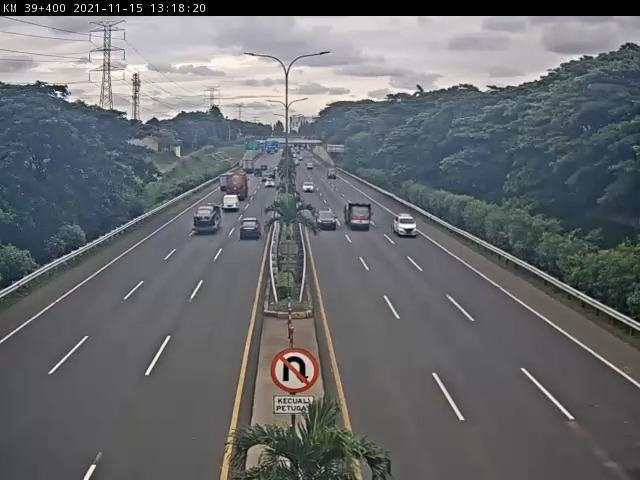car: (393, 212, 419, 238), (314, 210, 340, 233), (240, 217, 263, 242)
truck: (194, 204, 225, 236), (343, 200, 373, 230)
